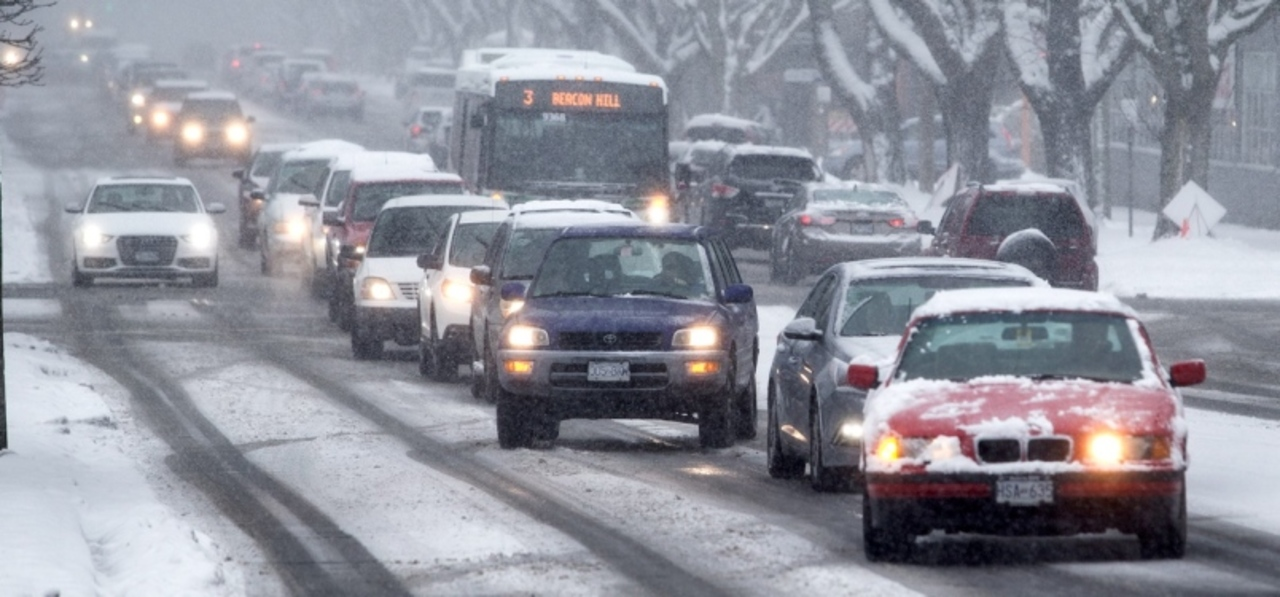bus: (453, 50, 665, 228)
car: (860, 281, 1206, 567), (760, 250, 1032, 488), (502, 227, 759, 446), (349, 196, 504, 362), (325, 170, 465, 329), (61, 175, 224, 292), (401, 205, 510, 375), (475, 217, 577, 398), (934, 179, 1098, 286), (770, 181, 932, 282), (249, 154, 351, 266), (705, 144, 826, 233), (171, 89, 255, 162), (143, 76, 191, 137), (306, 74, 366, 114), (278, 57, 321, 102), (72, 34, 117, 76), (126, 73, 152, 134), (401, 108, 433, 147)
